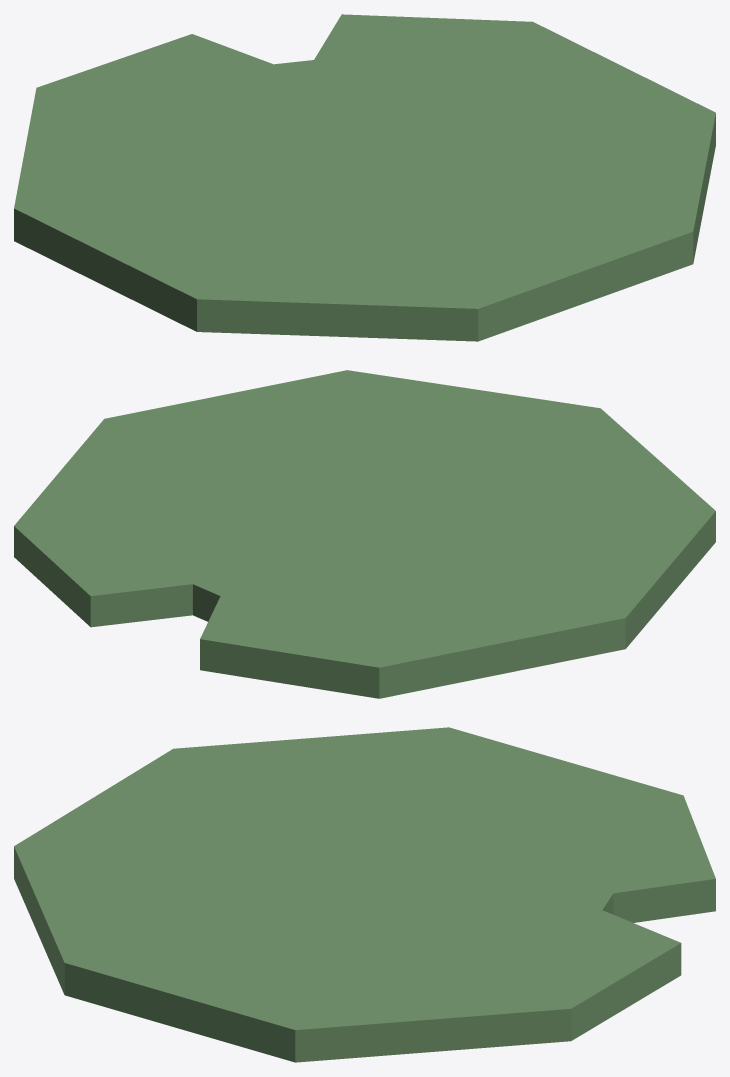
Rendered from CupLid_02_Mesh.fbx.
3 views of the same model, one above another, from view 1: azimuth 30°, elevation 25°; view 2: azimuth 150°, elevation 25°; view 3: azimuth 270°, elevation 25° (orthographic). The views are drawn at different scales.
Visible parts, largest first — view 1: KettleCups_Lid_02_col; view 2: KettleCups_Lid_02_col; view 3: KettleCups_Lid_02_col.
Boxes of the visible parts, left/top/right/bottom form: KettleCups_Lid_02_col: left=14, top=14, right=715, bottom=341; KettleCups_Lid_02_col: left=14, top=370, right=715, bottom=698; KettleCups_Lid_02_col: left=14, top=727, right=715, bottom=1062.
Size of what is drawn, in the model's own units: 13.47 by 0.6743 by 13.2.
